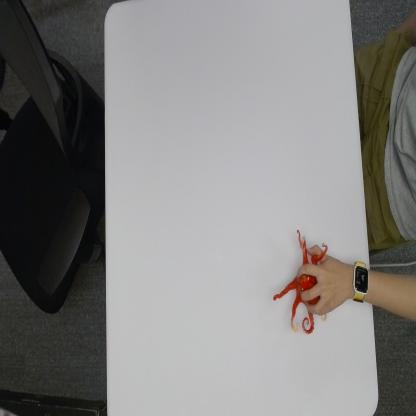Hand: (297, 243, 352, 316)
Octopus: (272, 226, 328, 336)
